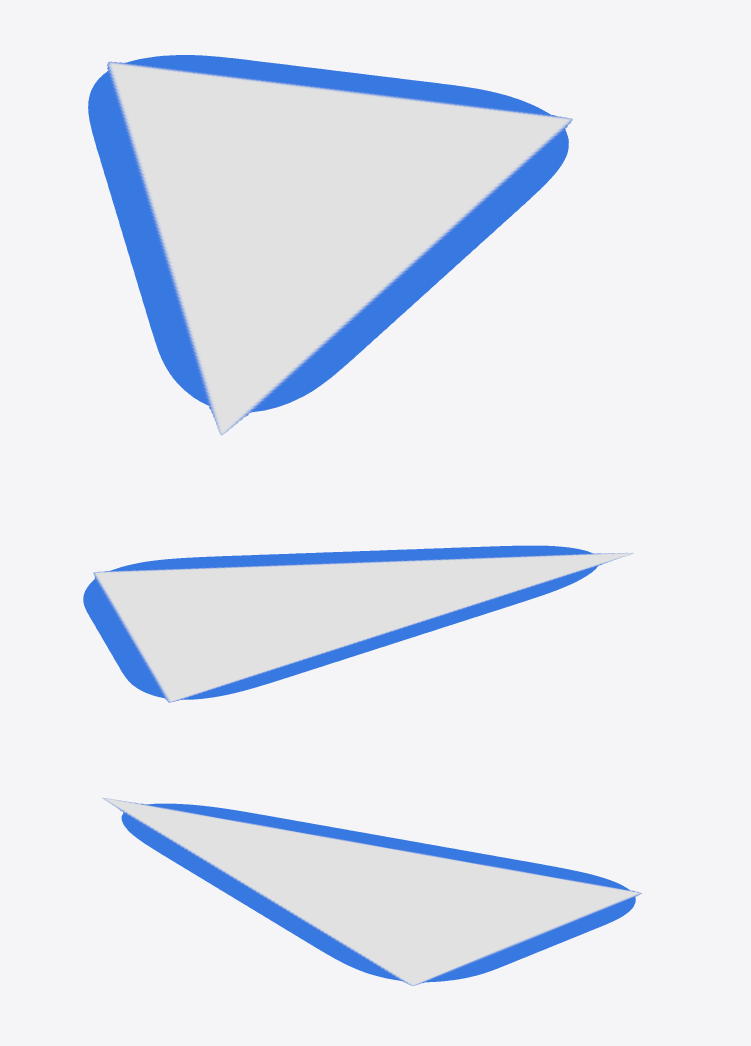
The model's file is Tri.FBX.
The picture shows the model from 3 angles, top to bottom: view 1: azimuth 30°, elevation 25°; view 2: azimuth 150°, elevation 25°; view 3: azimuth 270°, elevation 25°; orthographic projection. The views are drawn at different scales.
Parts seen in each view (by area): view 1: Tri; view 2: Tri; view 3: Tri.
Part boxes in pixels (box(x1,y1,x2,y2)): Tri: box(88, 55, 572, 435); Tri: box(83, 545, 633, 702); Tri: box(102, 797, 641, 985).
Size of the model in its own units: 0.9033 by 6.43e-17 by 1.05.
